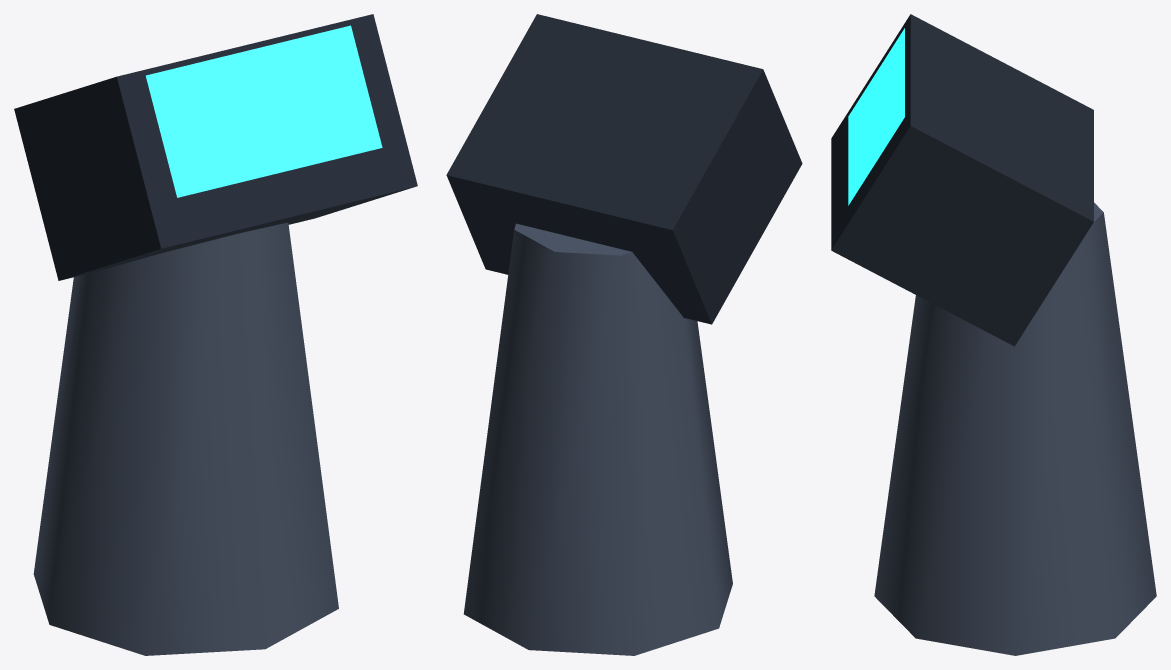
Rendered from terminal_console.glb.
3 views of the same model, side by side, from view 1: azimuth 30°, elevation 25°; view 2: azimuth 150°, elevation 25°; view 3: azimuth 270°, elevation 25° (orthographic). The views are drawn at different scales.
Visible parts, largest first — view 1: Research_Terminal_Console; view 2: Research_Terminal_Console; view 3: Research_Terminal_Console.
Boxes of the visible parts, x1,y1,x2,y2 form: Research_Terminal_Console: (14, 14, 417, 655); Research_Terminal_Console: (446, 14, 802, 655); Research_Terminal_Console: (831, 14, 1156, 655).
Size of the model in its own units: 0.8 by 1.64 by 0.9223.
